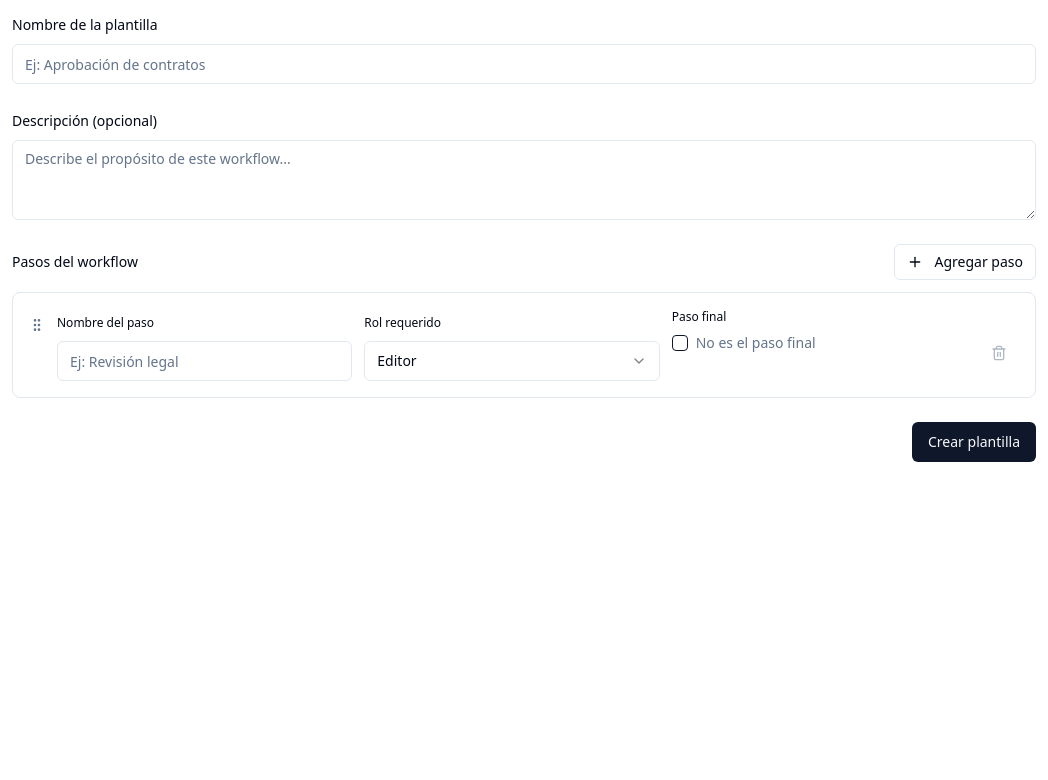
Test: WorkflowTemplateForm — template name validation › shows "El nombre es obligatorio" when submitting without a template name
Click the button "Crear plantilla": (974, 442) [912,422,1036,462]
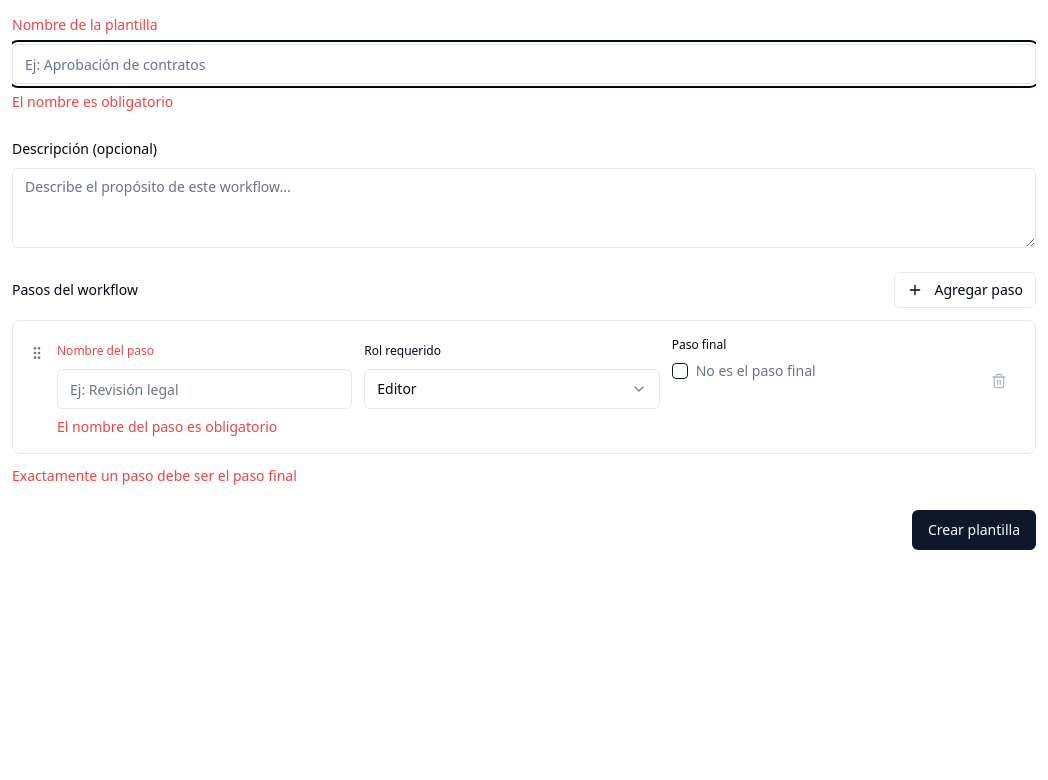
Expected: the text "El nombre es obligatorio" is shown, [12,92,173,111]
